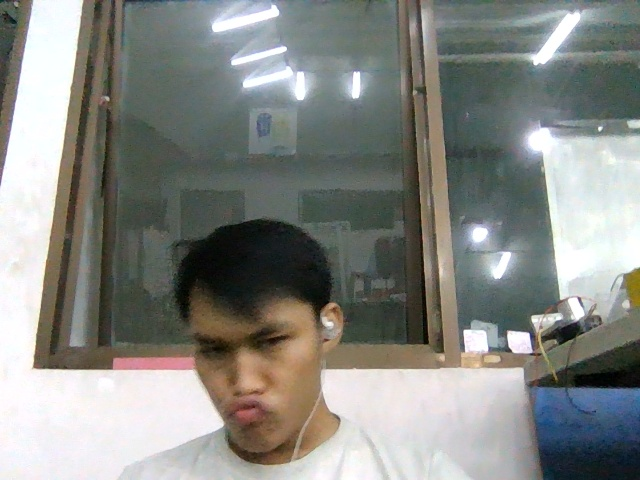mask_off: (200, 381, 323, 454)
